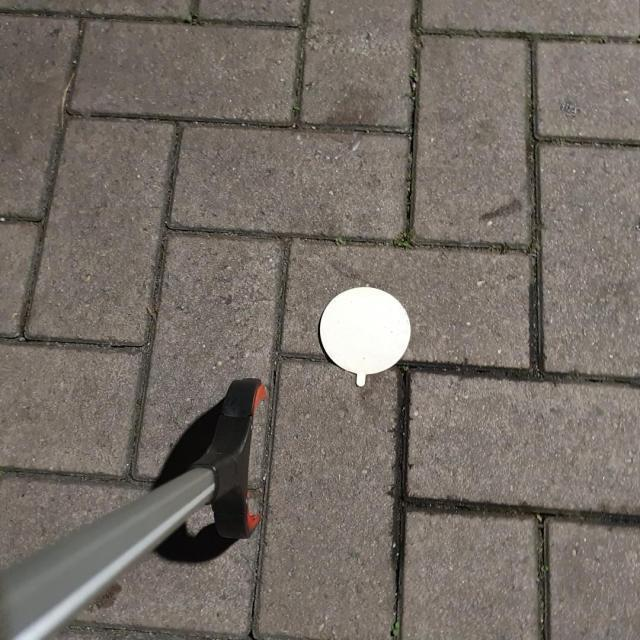Paper: (316, 284, 412, 389)
